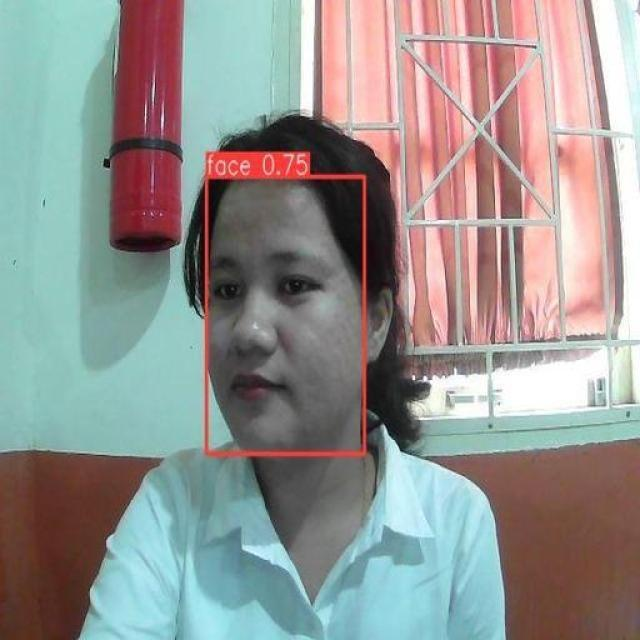bareface: (194, 74, 383, 464)
